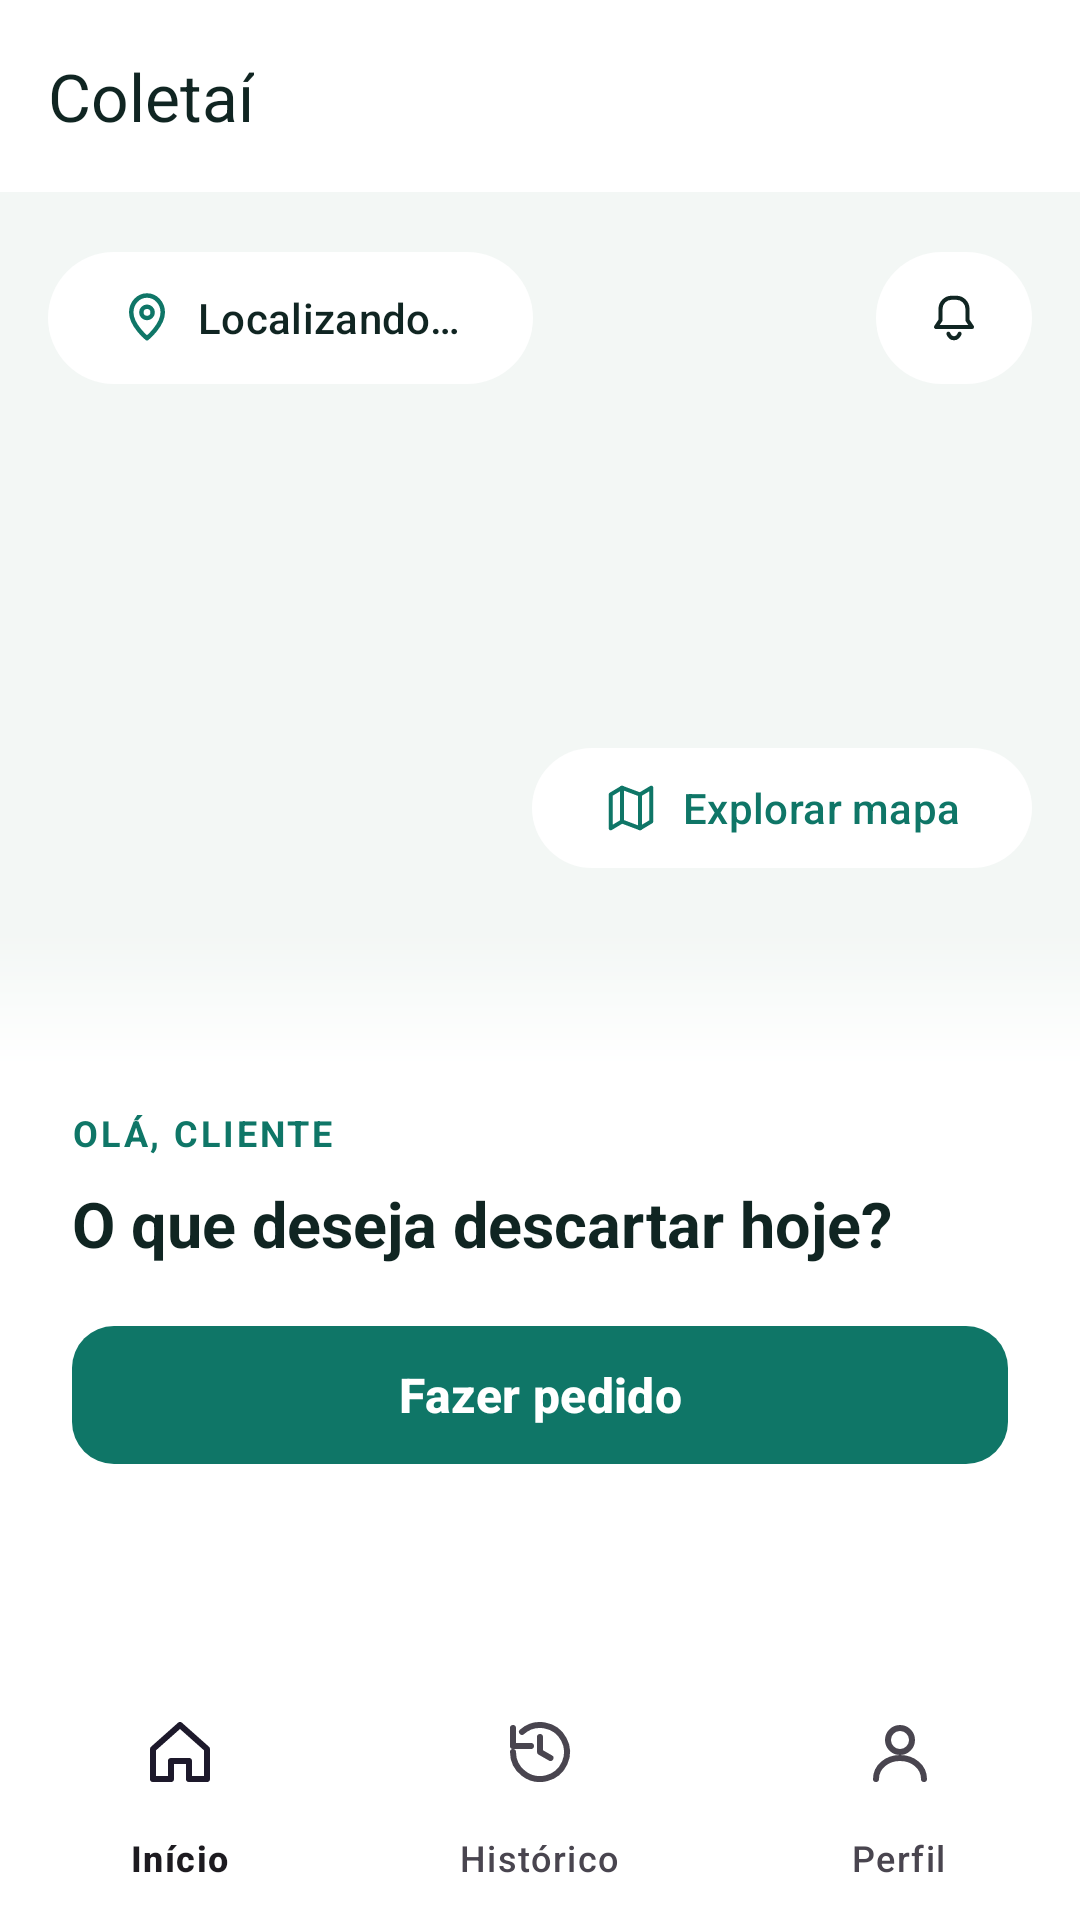

Icon click points for this 1080*1920 phone screenshot, format (x=x, y=y):
Notificações: (x=954, y=318)
